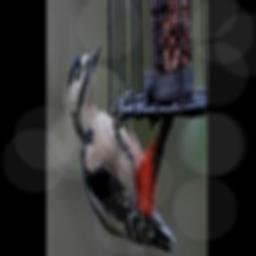Woodpecker: (67, 43, 175, 251)
